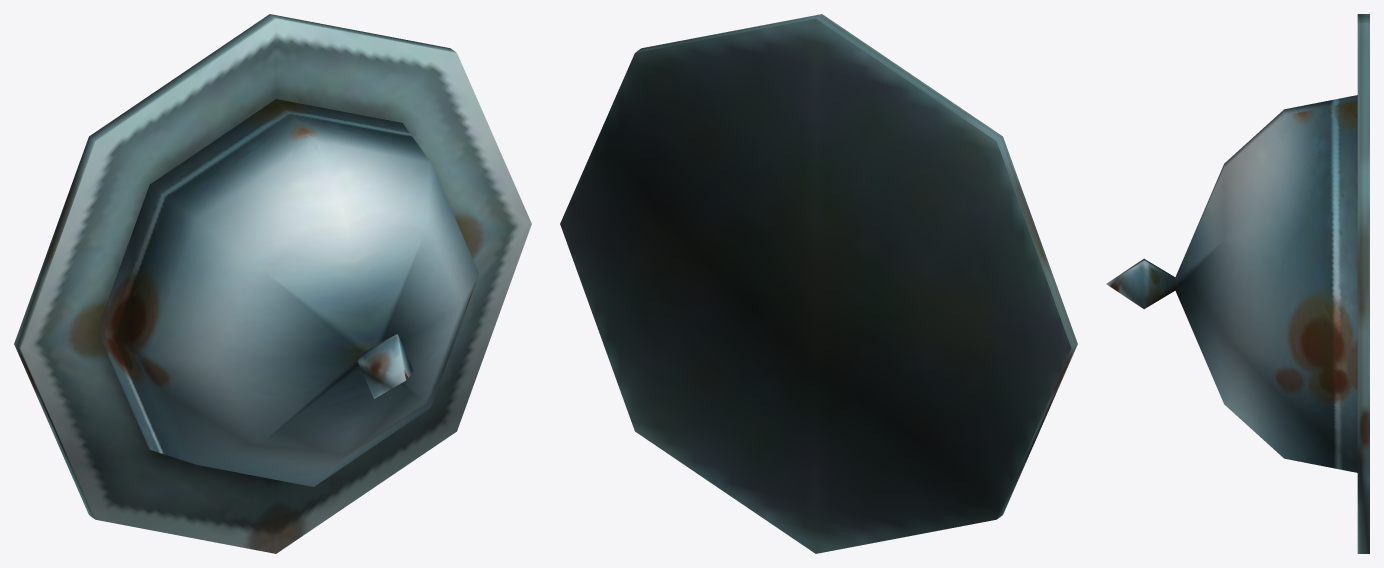
File: Serving_platter_04394f51__Serving_platter_0988508c_c1f257.obj
The picture shows the model from 3 angles, left to right: view 1: azimuth 30°, elevation 25°; view 2: azimuth 150°, elevation 25°; view 3: azimuth 270°, elevation 25°; orthographic projection. The views are drawn at different scales.
Size of the model in its own units: 1.06 by 1.06 by 0.489.
1 material, 1 textured.
